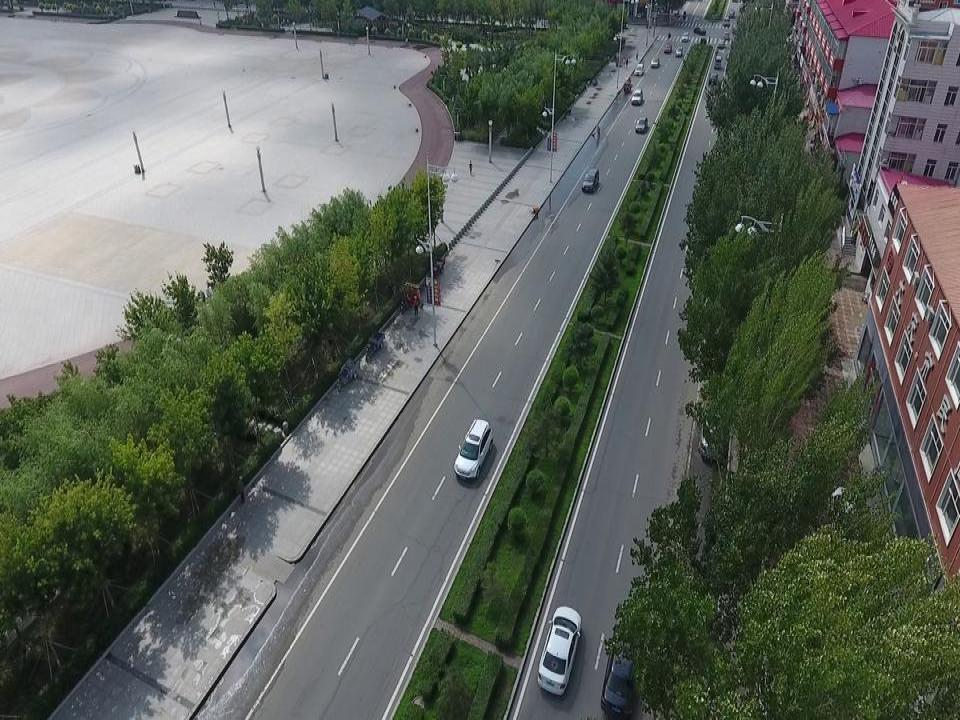car: (595, 621, 661, 720), (533, 598, 587, 702), (454, 417, 498, 484), (698, 391, 729, 460), (576, 162, 605, 206), (630, 116, 653, 137), (630, 87, 645, 109), (633, 61, 646, 79), (648, 54, 659, 70), (707, 72, 719, 85), (712, 55, 723, 69), (714, 37, 728, 48), (693, 25, 706, 36), (722, 16, 735, 27), (675, 44, 685, 57), (680, 29, 689, 43), (721, 29, 732, 40), (664, 43, 672, 56)
